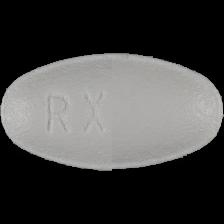51655-610: (0, 0, 224, 224)
